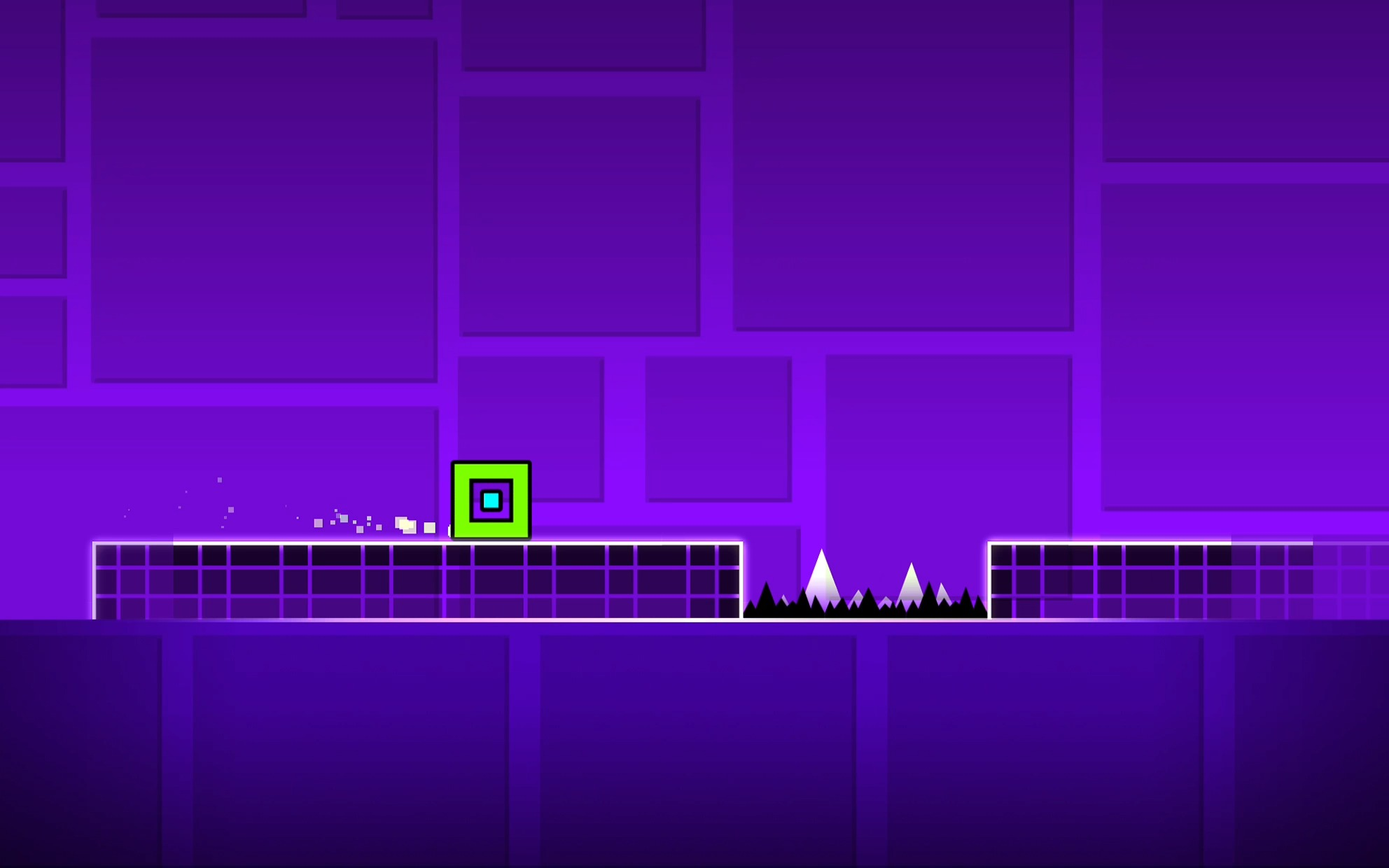Block2: (96, 541, 737, 615), (990, 542, 1388, 621)
Player: (451, 460, 531, 538)
Spike3: (744, 582, 987, 622)
